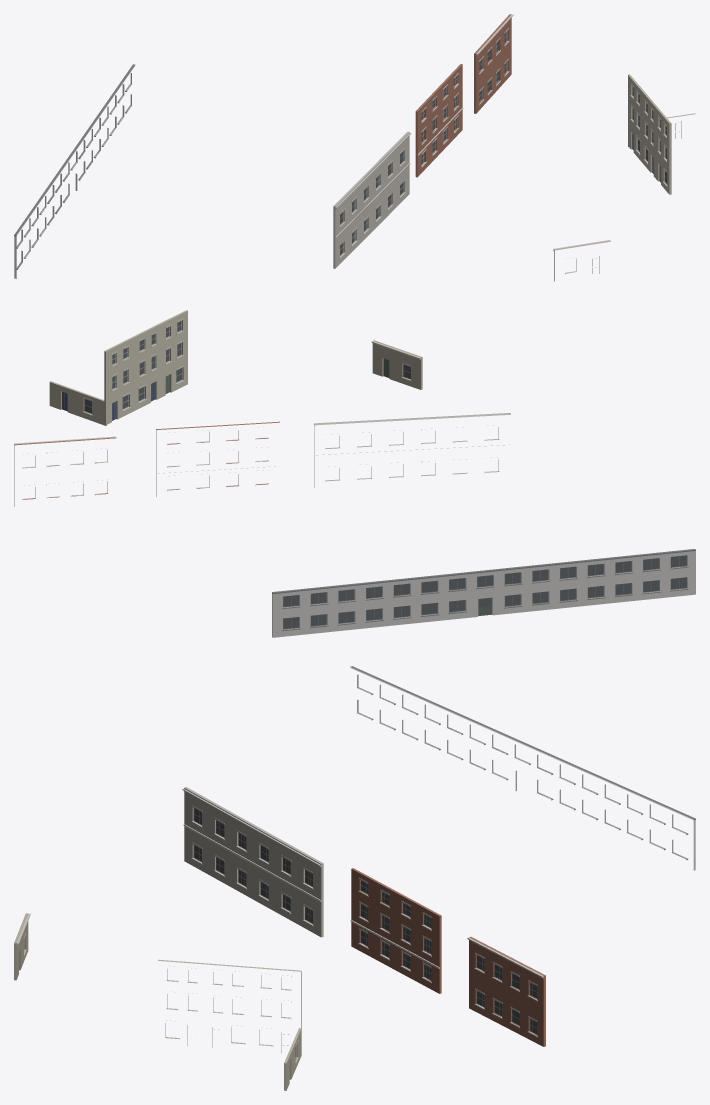
The picture shows the model from 3 angles, top to bottom: view 1: azimuth 30°, elevation 25°; view 2: azimuth 150°, elevation 25°; view 3: azimuth 270°, elevation 25°; orthographic projection. The views are drawn at different scales.
Parts seen in each view (by area): view 1: f:way/134811796, f:way/134707045, f:way/134811799, f:way/134811795, f:way/134802640; view 2: f:way/134802640, f:way/134707045, f:way/134700802, f:way/134811796, f:way/134811799, f:way/134811795; view 3: f:way/134811796, f:way/134811799, f:way/134811795, f:way/134802640, f:way/134707045, f:way/134700802.
Boxes of the visible parts, x1=… form: f:way/134811796: x1=333, y1=131, x2=411, y2=268; f:way/134707045: x1=628, y1=74, x2=695, y2=194; f:way/134811799: x1=415, y1=64, x2=463, y2=177; f:way/134811795: x1=474, y1=14, x2=513, y2=113; f:way/134802640: x1=14, y1=64, x2=135, y2=278; f:way/134802640: x1=272, y1=549, x2=695, y2=637; f:way/134707045: x1=49, y1=310, x2=187, y2=425; f:way/134700802: x1=371, y1=340, x2=422, y2=389; f:way/134811796: x1=314, y1=413, x2=510, y2=487; f:way/134811799: x1=156, y1=421, x2=279, y2=496; f:way/134811795: x1=14, y1=436, x2=116, y2=506; f:way/134811796: x1=182, y1=787, x2=323, y2=937; f:way/134811799: x1=350, y1=868, x2=441, y2=993; f:way/134811795: x1=467, y1=937, x2=545, y2=1046; f:way/134802640: x1=350, y1=666, x2=695, y2=870; f:way/134707045: x1=158, y1=959, x2=301, y2=1090; f:way/134700802: x1=14, y1=913, x2=30, y2=980.
Bounding box in the file's own units: 84.52 × 9.33 × 64.6.
